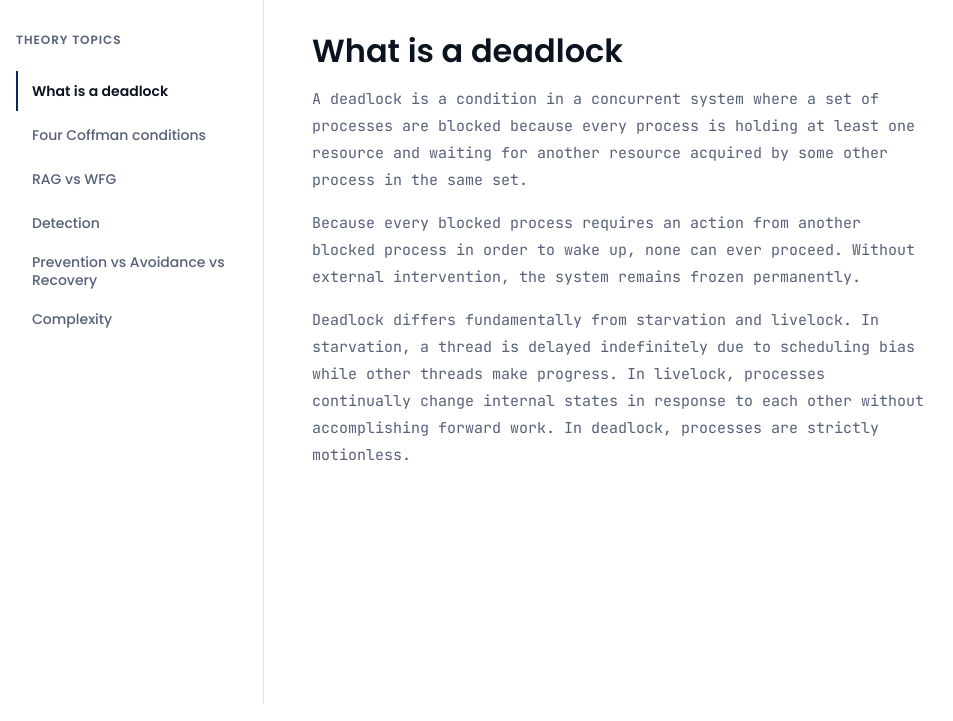
Learn page › explains that an empty scenario cannot be assessed
Click the tab "Four Coffman conditions" at [128, 135], box [16, 115, 239, 155]
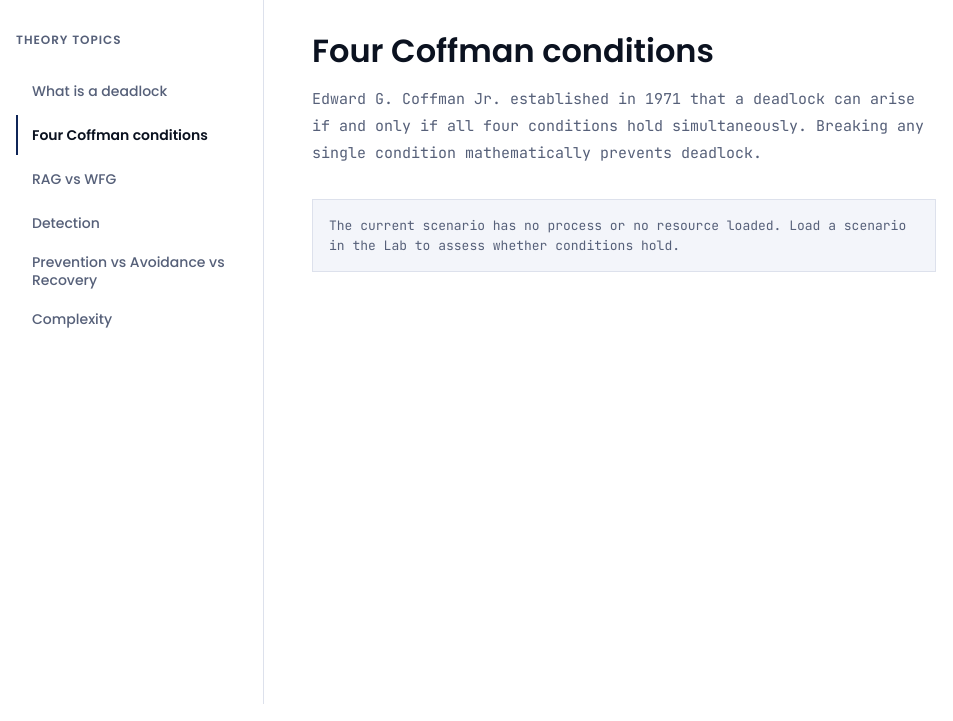
Expected: the text with test id "coffman-unassessable" shows "no process or no resource", [329, 217, 906, 254]
